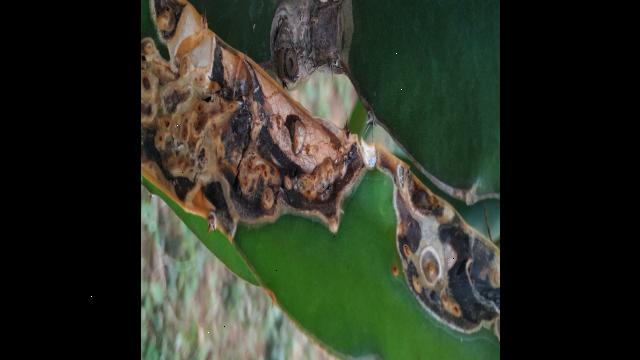stemcanker: (140, 3, 499, 355)
